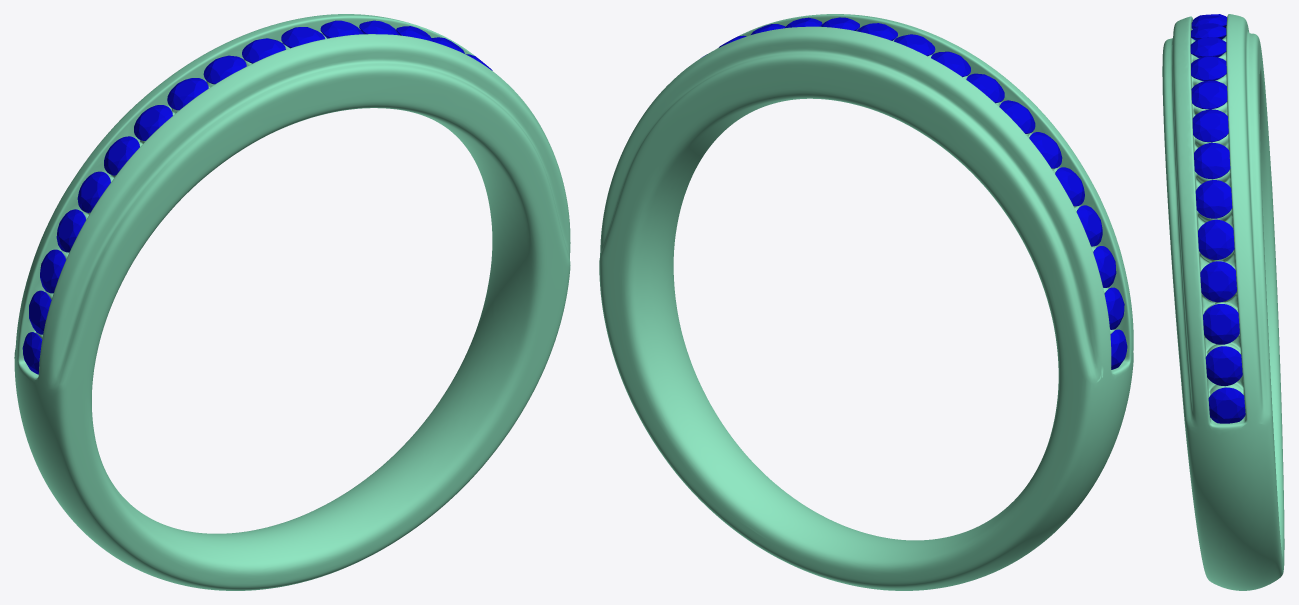
3 renders of one model, left to right at view 1: azimuth 30°, elevation 25°; view 2: azimuth 150°, elevation 25°; view 3: azimuth 270°, elevation 25°, orthographic. The views are drawn at different scales.
Parts seen in each view (by area): view 1: Metal03, Diamond_Band.005, Diamond_Band.006, Diamond_Band.007, Diamond_Band.008, Diamond_Band.004, Diamond_Band.003, Diamond_Band.009, Diamond_Band.010, Diamond_Band.002; view 2: Metal03, Diamond_Band.005, Diamond_Band.004, Diamond_Band.006; view 3: Metal03, Diamond_Band.017, Diamond_Band.018, Diamond_Band.016, Diamond_Band.019, Diamond_Band.015, Diamond_Band.020, Diamond_Band.014, Diamond_Band.013, Diamond_Band.012, Diamond_Band.011, Diamond_Band (+2 smaller).
Boxes of the visible parts, x1,y1,x2,y2 form: Metal03: (14, 14, 570, 590); Diamond_Band.005: (77, 171, 110, 212); Diamond_Band.006: (104, 136, 139, 175); Diamond_Band.007: (134, 105, 172, 140); Diamond_Band.008: (167, 78, 208, 110); Diamond_Band.004: (56, 209, 85, 252); Diamond_Band.003: (40, 249, 65, 293); Diamond_Band.009: (203, 55, 246, 84); Diamond_Band.010: (242, 38, 285, 63); Diamond_Band.002: (29, 290, 51, 334); Metal03: (599, 14, 1133, 590); Diamond_Band.005: (1055, 167, 1084, 206); Diamond_Band.004: (1076, 205, 1102, 246); Diamond_Band.006: (1029, 132, 1062, 168); Metal03: (1162, 14, 1284, 590); Diamond_Band.017: (1200, 261, 1236, 302); Diamond_Band.018: (1203, 304, 1239, 344); Diamond_Band.016: (1198, 219, 1234, 259); Diamond_Band.019: (1205, 346, 1242, 386); Diamond_Band.015: (1195, 180, 1232, 218); Diamond_Band.020: (1208, 387, 1245, 423); Diamond_Band.014: (1194, 142, 1230, 179); Diamond_Band.013: (1192, 109, 1228, 142); Diamond_Band.012: (1191, 80, 1227, 109); Diamond_Band.011: (1191, 56, 1226, 81); Diamond_Band: (1190, 37, 1226, 58).
Bounding box in the file's own units: 21.68 × 21.82 × 4.61.
